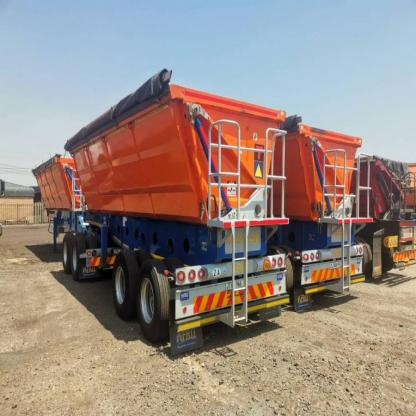dump_truck: (19, 75, 287, 356)
